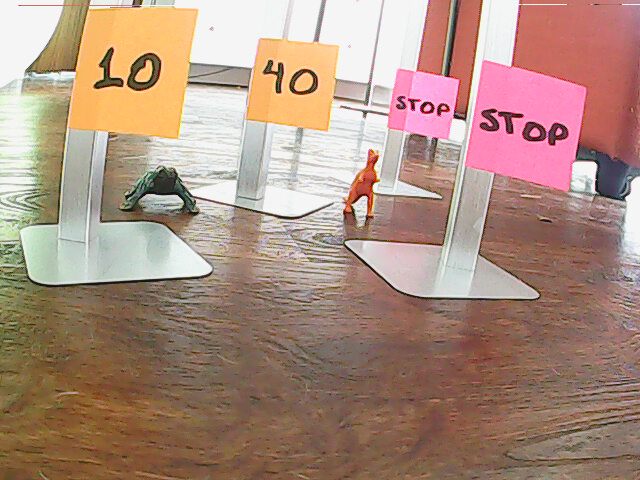10: (64, 7, 198, 133)
40: (244, 38, 339, 130)
dinosaur: (337, 146, 386, 224)
stop: (467, 59, 582, 194), (386, 69, 459, 141)
turtle: (120, 159, 199, 218)
